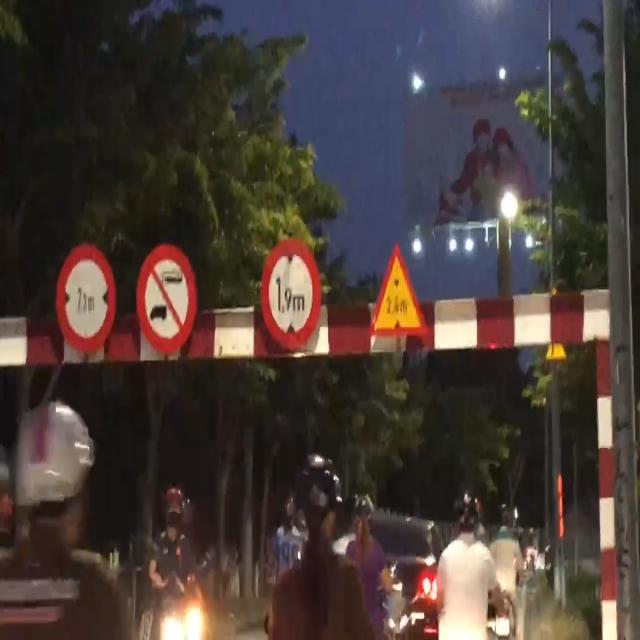Bien bao cam xe oto khach va xe oto tai: (133, 234, 203, 364)
Bien bao chieu cao tinh khong thuc te: (367, 242, 430, 344)
Bien bao han che chieu cao: (258, 236, 322, 352)
